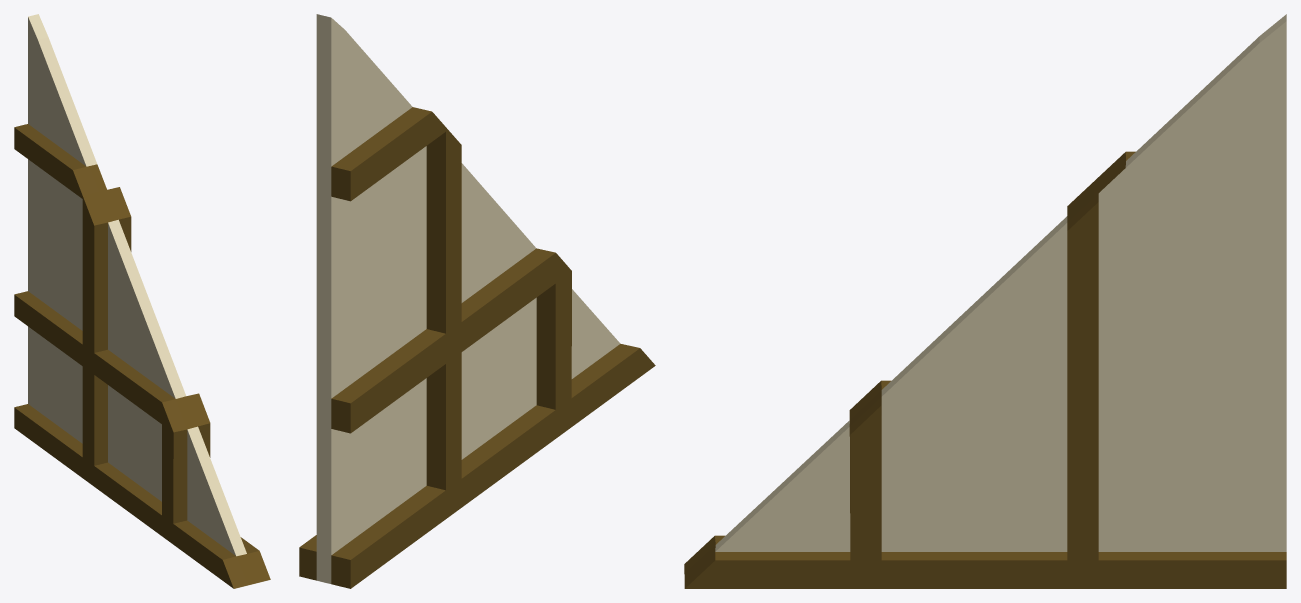
The model's file is SlantedWall.fbx.
3 renders of one model, left to right at view 1: azimuth 30°, elevation 25°; view 2: azimuth 150°, elevation 25°; view 3: azimuth 270°, elevation 25°, orthographic. The views are drawn at different scales.
Visible parts, largest first — view 1: pCube188; view 2: pCube188; view 3: pCube188.
Part boxes in pixels (<box>): pCube188: <box>14,14,270,588</box>; pCube188: <box>299,14,655,588</box>; pCube188: <box>684,14,1286,588</box>.
Size of the model in its own units: 0.2823 by 2.97 by 2.9.
